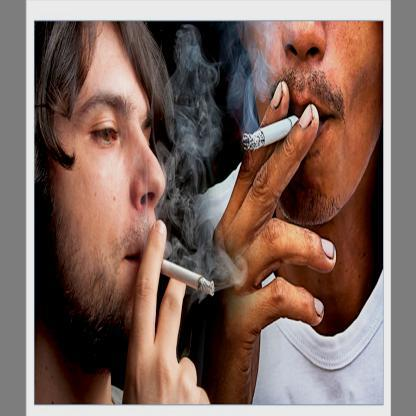cigarette: (162, 256, 216, 298), (242, 118, 298, 150)
person: (207, 18, 384, 404), (34, 21, 183, 406)
smoke: (165, 34, 221, 256), (234, 62, 263, 131)
